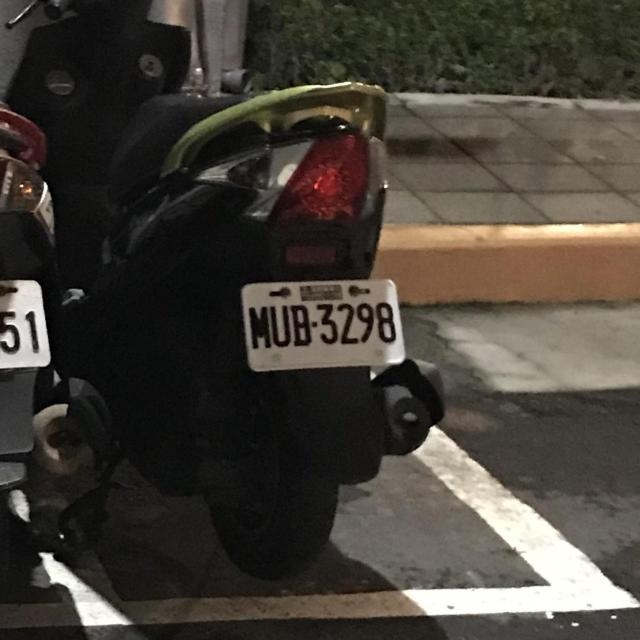W: (228, 259, 413, 390), (0, 266, 57, 387)
